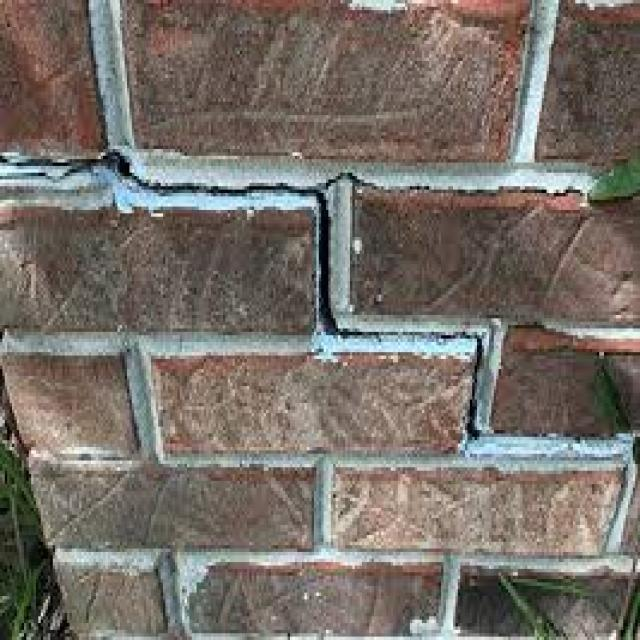Crack: (0, 142, 638, 468)
